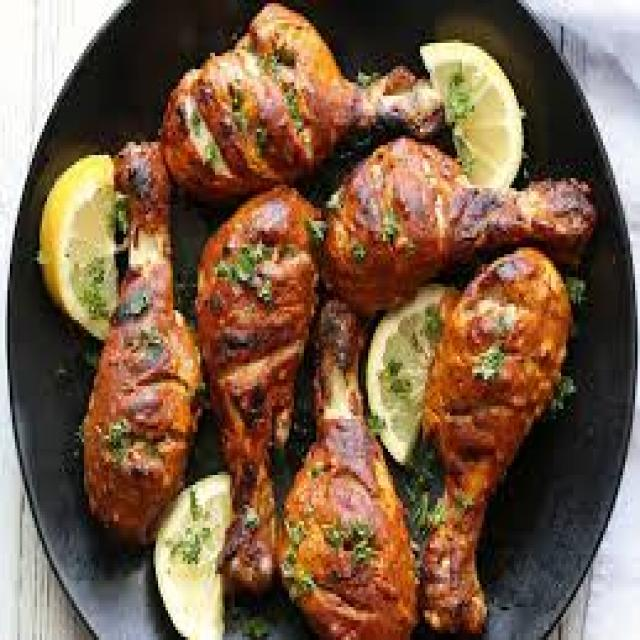Frango: (89, 6, 593, 640)
